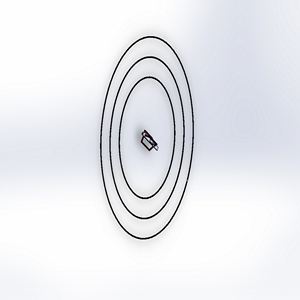circle: (87, 30, 201, 251)
submarine: (133, 124, 166, 163)
